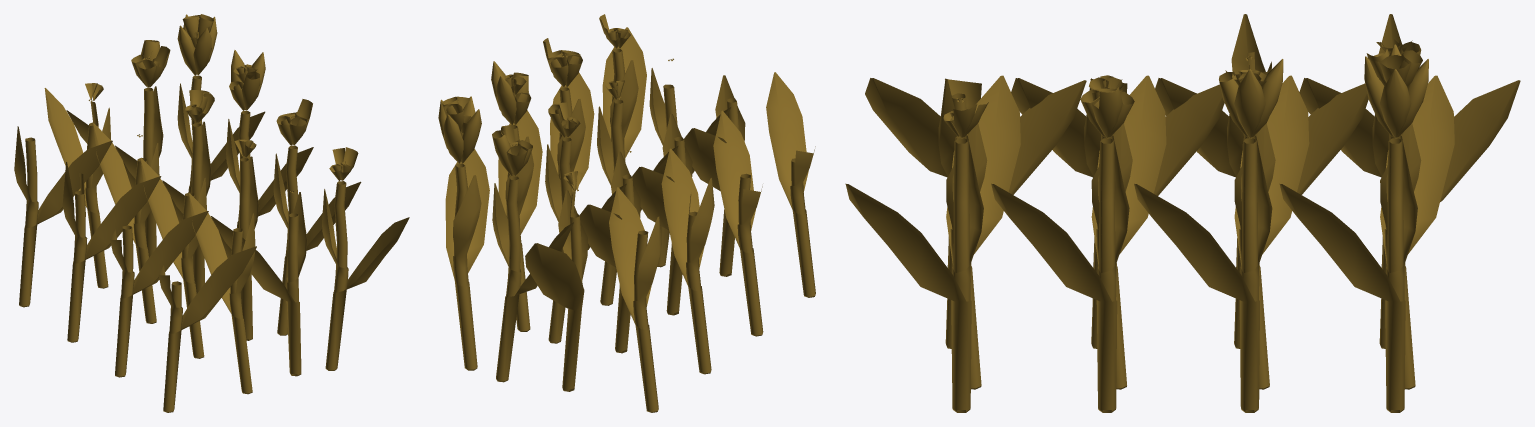
3 renders of one model, left to right at view 1: azimuth 30°, elevation 25°; view 2: azimuth 150°, elevation 25°; view 3: azimuth 270°, elevation 25°, orthographic. The views are drawn at different scales.
Visible parts, largest first — view 1: Cube; view 2: Cube; view 3: Cube.
Boxes of the visible parts, x1,y1,x2,y2 form: Cube: (14, 14, 409, 412); Cube: (438, 14, 815, 412); Cube: (845, 14, 1520, 412).
Size of the model in its own units: 825 by 893 by 1497.
